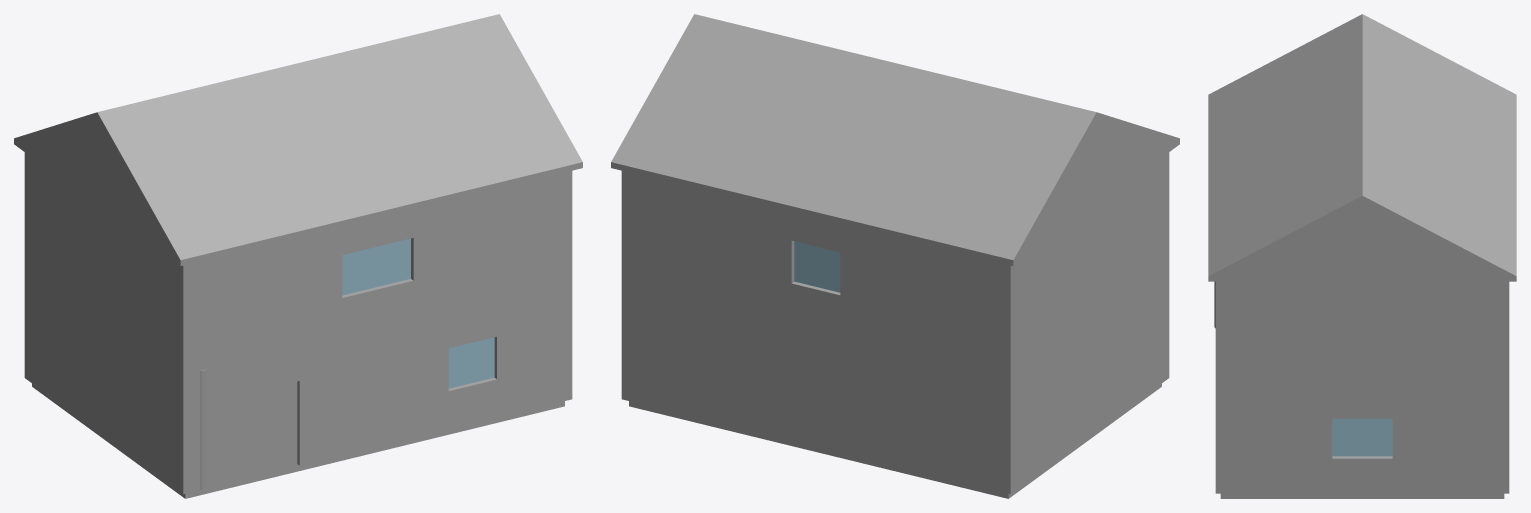
File: demo_house.glb
3 renders of one model, left to right at view 1: azimuth 30°, elevation 25°; view 2: azimuth 150°, elevation 25°; view 3: azimuth 270°, elevation 25°, orthographic. The views are drawn at different scales.
Visible parts, largest first — view 1: roof_roof, wall_lvl_0_w0, wall_lvl_1_w0, wall_lvl_0_w3, wall_lvl_1_w3, window_win_c, door_front_door, floor_lvl_0_floor, window_win_a, wall_lvl_0_w1, wall_lvl_1_w1, column_col_porch (+2 smaller); view 2: roof_roof, wall_lvl_0_w2, wall_lvl_1_w2, wall_lvl_0_w3, wall_lvl_1_w3, floor_lvl_0_floor, window_win_d, wall_lvl_1_w1, wall_lvl_0_w1, wall_lvl_0_w0, wall_lvl_1_w0; view 3: roof_roof, wall_lvl_1_w1, wall_lvl_0_w1, window_win_b, floor_lvl_0_floor, wall_lvl_0_w0, wall_lvl_1_w0, wall_lvl_0_w2, wall_lvl_1_w2.
Boxes of the visible parts, x1,y1,x2,y2 form: roof_roof: (14, 14, 582, 266); wall_lvl_0_w0: (178, 282, 572, 493); wall_lvl_1_w0: (178, 171, 572, 374); wall_lvl_0_w3: (24, 263, 192, 492); wall_lvl_1_w3: (24, 152, 192, 374); window_win_c: (340, 235, 415, 300); door_front_door: (264, 378, 301, 474); floor_lvl_0_floor: (32, 383, 564, 498); window_win_a: (446, 334, 499, 394); wall_lvl_0_w1: (563, 280, 572, 401); wall_lvl_1_w1: (563, 171, 572, 282); column_col_porch: (200, 369, 206, 489); roof_roof: (611, 14, 1179, 266); wall_lvl_0_w2: (621, 280, 1015, 493); wall_lvl_1_w2: (621, 173, 1015, 374); wall_lvl_0_w3: (1001, 260, 1169, 493); wall_lvl_1_w3: (1001, 155, 1169, 374); floor_lvl_0_floor: (629, 383, 1161, 498); window_win_d: (789, 237, 842, 298); wall_lvl_1_w1: (621, 171, 630, 280); wall_lvl_0_w1: (621, 280, 630, 400); wall_lvl_0_w0: (1164, 259, 1169, 381); wall_lvl_1_w0: (1164, 152, 1169, 262); roof_roof: (1208, 14, 1516, 281); wall_lvl_1_w1: (1215, 281, 1509, 383); wall_lvl_0_w1: (1215, 383, 1509, 493); window_win_b: (1330, 416, 1394, 460); floor_lvl_0_floor: (1220, 493, 1504, 498); wall_lvl_0_w0: (1215, 383, 1225, 493); wall_lvl_1_w0: (1215, 281, 1225, 383); wall_lvl_0_w2: (1499, 383, 1509, 493); wall_lvl_1_w2: (1499, 281, 1509, 383).
Size of what is drawn, in the model's own units: 10.6 by 8.39 by 7.6.
